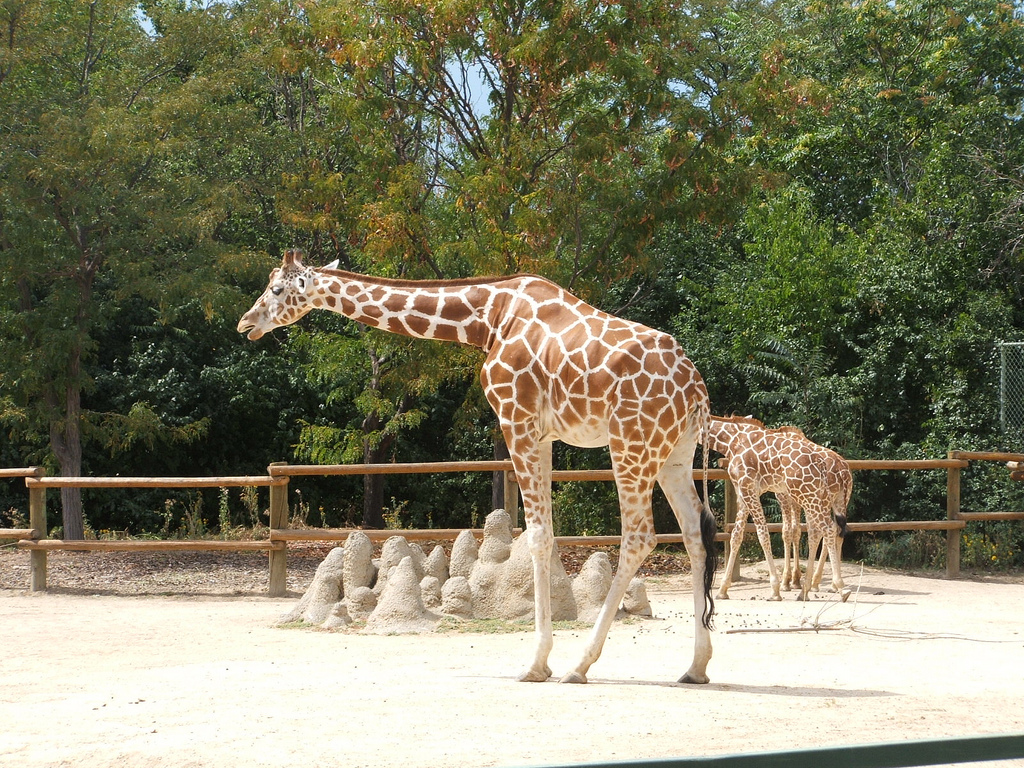giraffe: (235, 251, 730, 700), (677, 397, 875, 606)
